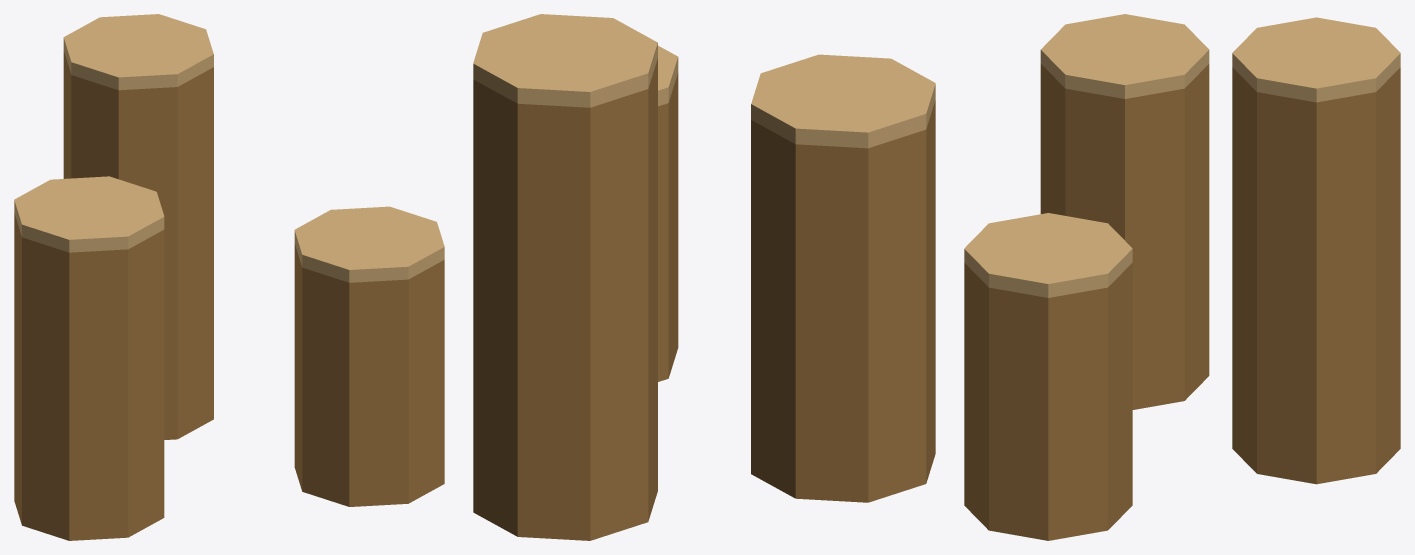
File: wood_node.dae
3 renders of one model, left to right at view 1: azimuth 30°, elevation 25°; view 2: azimuth 150°, elevation 25°; view 3: azimuth 270°, elevation 25°, orthographic. The views are drawn at different scales.
Parts seen in each view (by area): view 1: Cylinder, Cylinder.002, Cylinder.004, Cylinder.003, Cylinder.001, Cylinder.005; view 2: Cylinder.004, Cylinder, Cylinder.005, Cylinder.001, Cylinder.002, Cylinder.003; view 3: Cylinder.004, Cylinder.002, Cylinder, Cylinder.001, Cylinder.005, Cylinder.003.
Boxes of the visible parts, <box> form: Cylinder: <box>14,213,164,540</box>; Cylinder.002: <box>294,244,444,506</box>; Cylinder.004: <box>63,51,213,439</box>; Cylinder.003: <box>294,206,444,282</box>; Cylinder.001: <box>14,176,164,252</box>; Cylinder.005: <box>63,14,213,90</box>; Cylinder.004: <box>473,58,657,540</box>; Cylinder: <box>751,100,935,502</box>; Cylinder.005: <box>473,14,657,107</box>; Cylinder.001: <box>751,54,935,148</box>; Cylinder.002: <box>658,73,678,381</box>; Cylinder.003: <box>658,45,678,106</box>; Cylinder.004: <box>1232,67,1400,484</box>; Cylinder.002: <box>964,263,1132,540</box>; Cylinder: <box>1040,64,1209,409</box>; Cylinder.001: <box>1040,14,1209,98</box>; Cylinder.005: <box>1232,17,1400,102</box>; Cylinder.003: <box>964,213,1132,297</box>.
Bounding box in the file's own units: 124 × 114 × 114.
